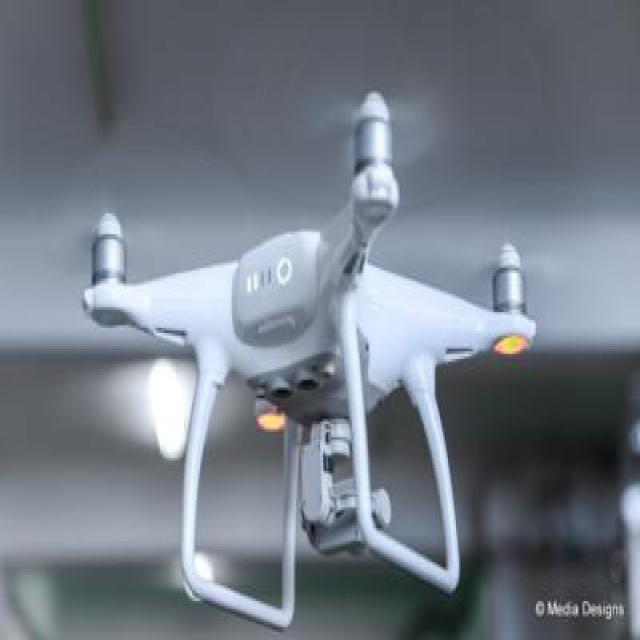drone: (20, 90, 557, 640)
